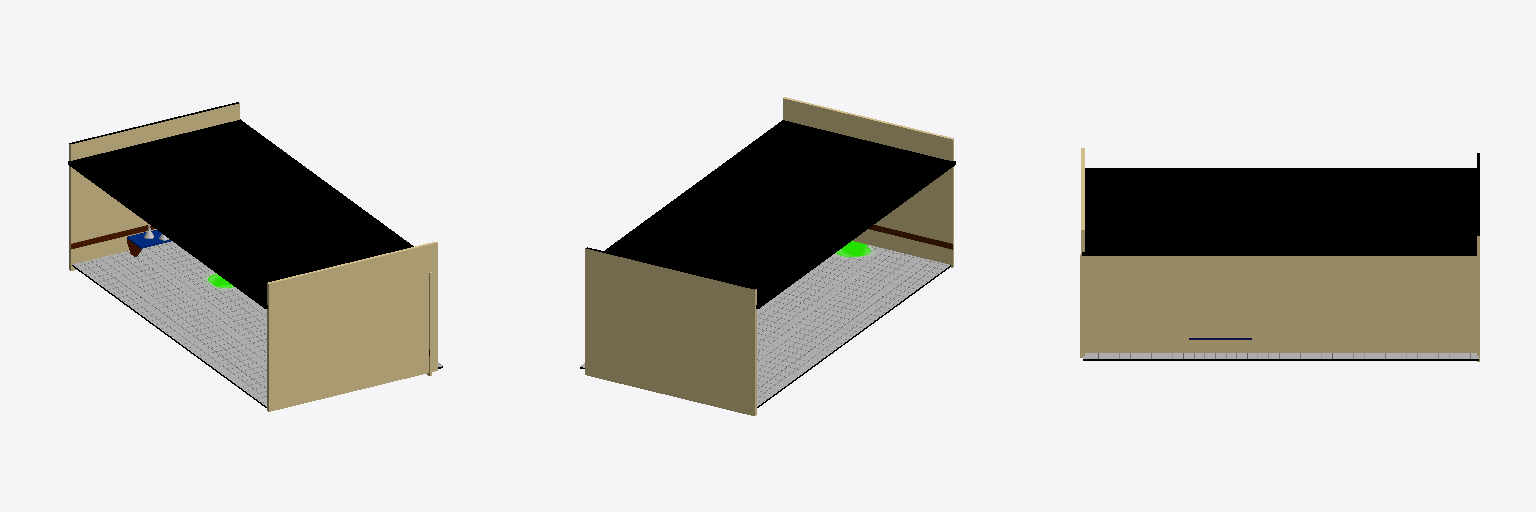
3 views of the same model, side by side, from view 1: azimuth 30°, elevation 25°; view 2: azimuth 150°, elevation 25°; view 3: azimuth 270°, elevation 25° (orthographic).
Visible parts, largest first — view 1: pCube32, pCube30, pCube28, pCube31; view 2: pCube32, pCube31, pCube28, pCube30; view 3: pCube29, pCube32, pCube28, pCube30, pCube31.
Part boxes in pixels (bbox=[...]): pCube32: bbox=[68, 119, 413, 308]; pCube30: bbox=[267, 242, 437, 411]; pCube28: bbox=[72, 241, 442, 407]; pCube31: bbox=[69, 102, 239, 270]; pCube32: bbox=[605, 120, 955, 308]; pCube31: bbox=[585, 247, 756, 415]; pCube28: bbox=[580, 241, 950, 407]; pCube30: bbox=[783, 97, 953, 267]; pCube29: bbox=[1080, 254, 1476, 357]; pCube32: bbox=[1082, 168, 1476, 255]; pCube28: bbox=[1083, 353, 1478, 360]; pCube30: bbox=[1081, 148, 1084, 357]; pCube31: bbox=[1477, 153, 1479, 361].
Bounding box in the file's own units: 110 × 78.13 × 215.
23 materials, 6 textured.